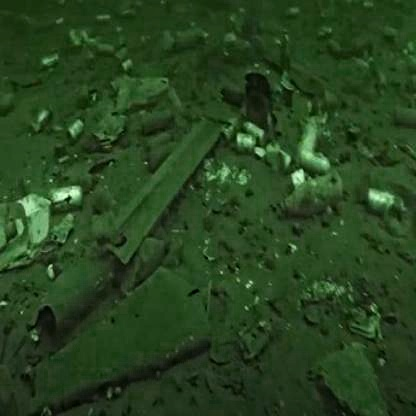can: (293, 127, 343, 189), (27, 87, 64, 141), (51, 174, 88, 226), (364, 180, 402, 216), (226, 128, 265, 159), (66, 108, 92, 146), (41, 46, 68, 78)
